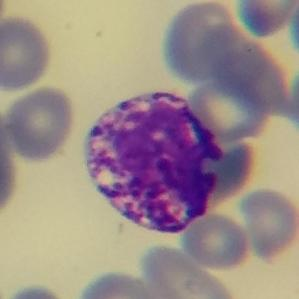Basophil: (80, 85, 227, 238)
RBC: (183, 59, 277, 144), (159, 0, 241, 84), (1, 84, 78, 163), (136, 243, 242, 299), (238, 185, 299, 263), (180, 211, 254, 271), (0, 14, 55, 94), (206, 28, 272, 89), (76, 268, 164, 299), (232, 0, 299, 39), (0, 114, 18, 213), (1, 282, 76, 299), (286, 59, 299, 140), (288, 0, 299, 64)
